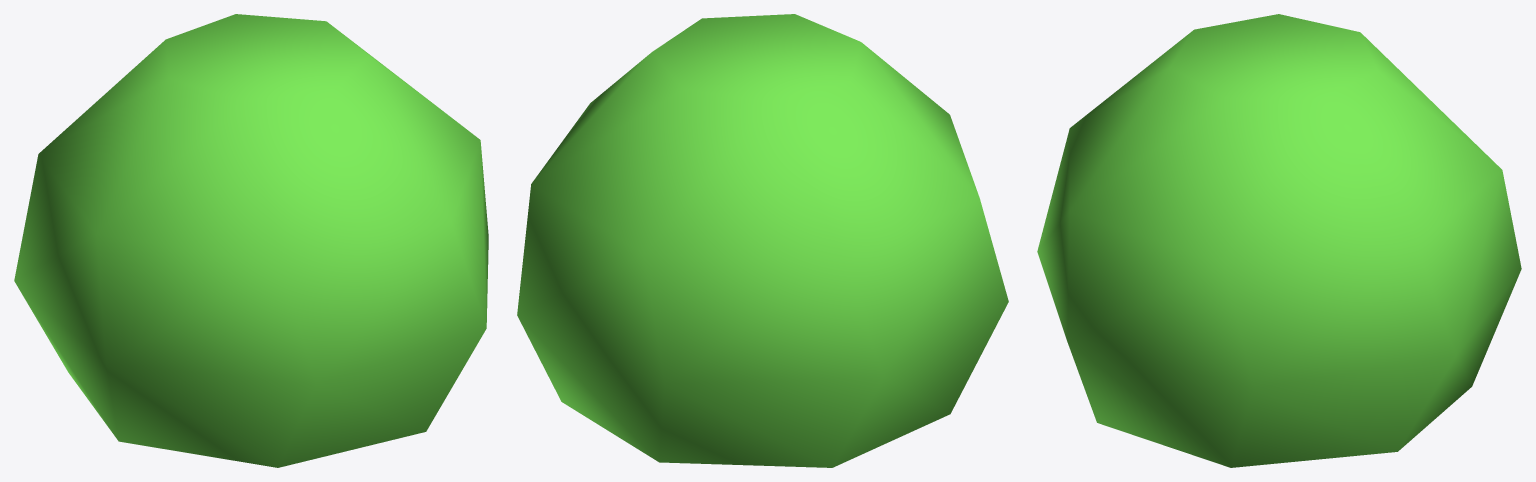
The model's file is Cactus3.fbx.
3 renders of one model, left to right at view 1: azimuth 30°, elevation 25°; view 2: azimuth 150°, elevation 25°; view 3: azimuth 270°, elevation 25°, orthographic.
Visible parts, largest first — view 1: Cactus3; view 2: Cactus3; view 3: Cactus3.
Part boxes in pixels (x1,y1,x2,y2): Cactus3: (14, 14, 488, 467); Cactus3: (517, 14, 1008, 467); Cactus3: (1037, 14, 1521, 467).
Size of the model in its own units: 276 by 207 by 278.
